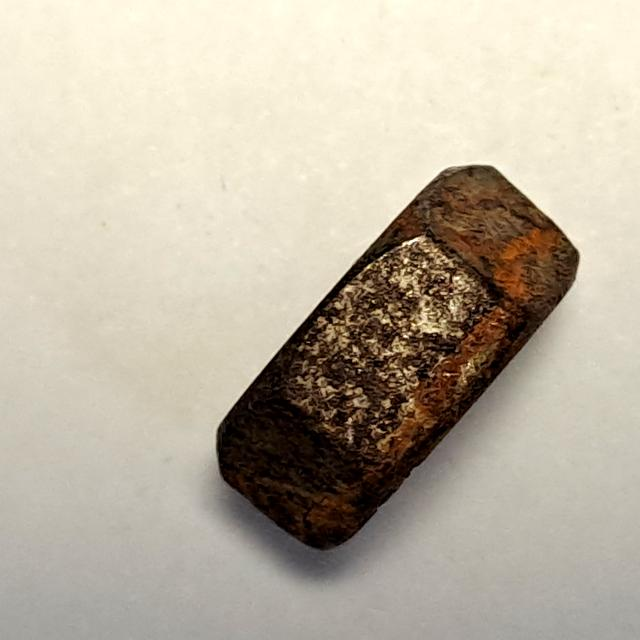Side_Rust: (196, 147, 595, 568)
